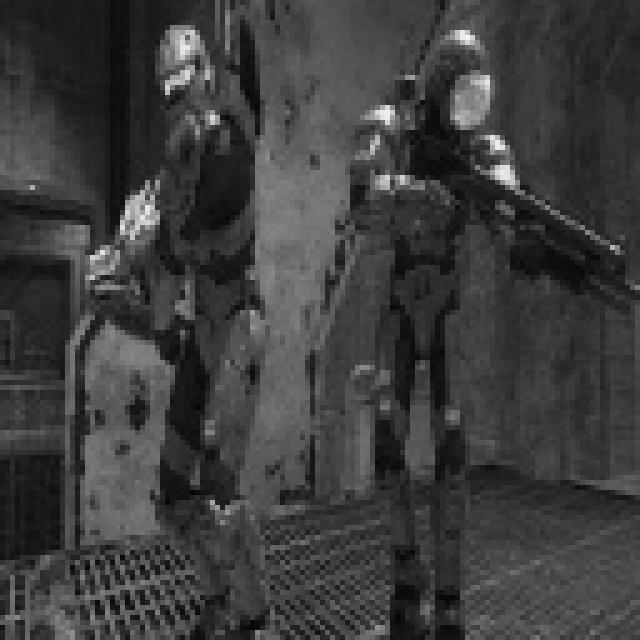Rifle: (355, 90, 640, 405), (34, 184, 290, 476)
